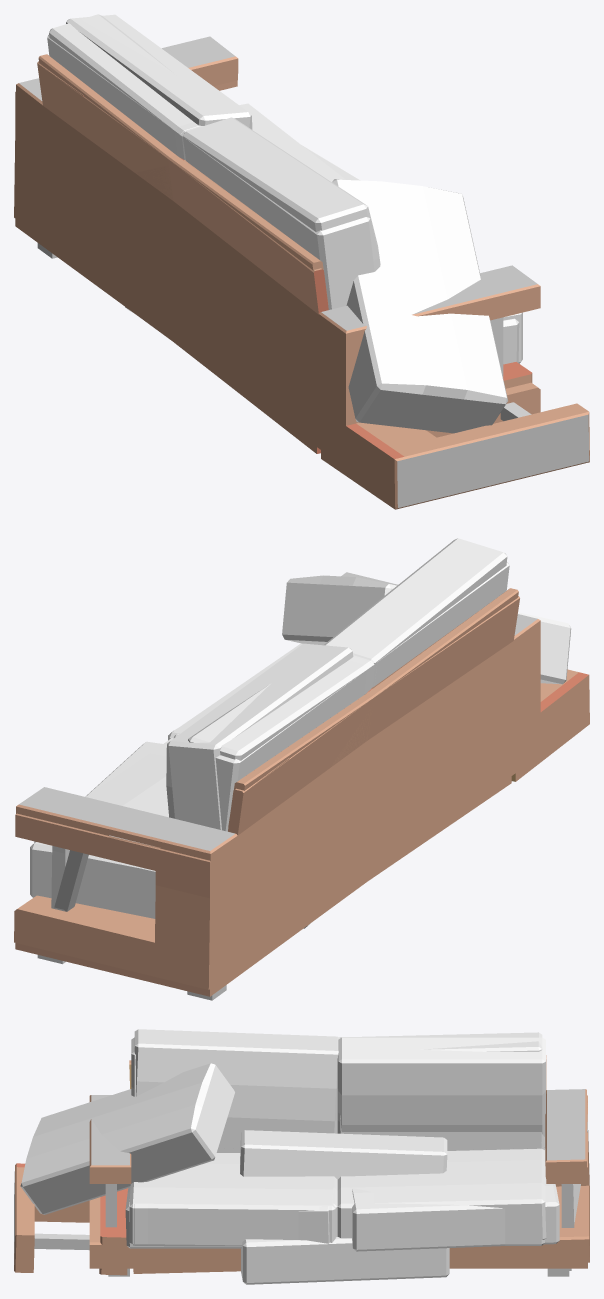
The model's file is Sofa1.fbx.
3 renders of one model, top to bottom at view 1: azimuth 30°, elevation 25°; view 2: azimuth 150°, elevation 25°; view 3: azimuth 270°, elevation 25°, orthographic. The views are drawn at different scales.
Parts seen in each view (by area): view 1: Sofa1.4, Sofa1.1, Sofa1.2, Sofa1.3; view 2: Sofa1.4, Sofa1.1, Sofa1.2, Sofa1.3; view 3: Sofa1.2, Sofa1.4, Sofa1.1, SofaDetail1.2, SofaDetail1.1.
Part boxes in pixels (x1=…): Sofa1.4: x1=14, y1=14, x2=589, y2=509; Sofa1.1: x1=15, y1=34, x2=540, y2=467; Sofa1.2: x1=66, y1=14, x2=522, y2=363; Sofa1.3: x1=15, y1=63, x2=287, y2=345; Sofa1.4: x1=14, y1=575, x2=589, y2=989; Sofa1.1: x1=15, y1=562, x2=540, y2=1000; Sofa1.2: x1=30, y1=538, x2=507, y2=918; Sofa1.3: x1=54, y1=616, x2=471, y2=994; Sofa1.2: x1=129, y1=1029, x2=559, y2=1251; Sofa1.4: x1=14, y1=1032, x2=589, y2=1275; Sofa1.1: x1=89, y1=1037, x2=587, y2=1276; SofaDetail1.2: x1=240, y1=1130, x2=447, y2=1179; SofaDetail1.1: x1=241, y1=1237, x2=449, y2=1284.
Bounding box in the file's own units: 171 × 174 × 495.
